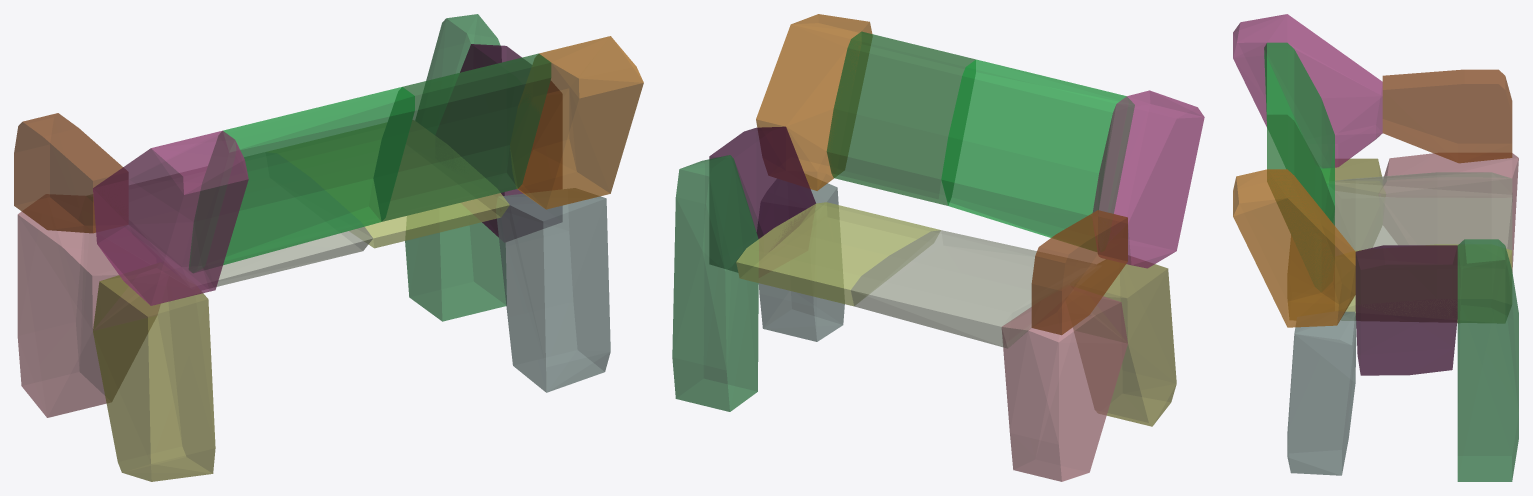
3 views of the same model, side by side, from view 1: azimuth 30°, elevation 25°; view 2: azimuth 150°, elevation 25°; view 3: azimuth 270°, elevation 25° (orthographic). The views are drawn at different scales.
Visible parts, largest first — view 1: Shape_IndexedFaceSet.001, Shape_IndexedFaceSet.004, Shape_IndexedFaceSet.006, Shape_IndexedFaceSet.003, Shape_IndexedFaceSet.010, Shape_IndexedFaceSet.007, Shape_IndexedFaceSet, Shape_IndexedFaceSet.011, Shape_IndexedFaceSet.002, Shape_IndexedFaceSet.008, Shape_IndexedFaceSet.009, Shape_IndexedFaceSet.005; view 2: Shape_IndexedFaceSet.001, Shape_IndexedFaceSet.008, Shape_IndexedFaceSet.003, Shape_IndexedFaceSet.004, Shape_IndexedFaceSet, Shape_IndexedFaceSet.011, Shape_IndexedFaceSet.007, Shape_IndexedFaceSet.006, Shape_IndexedFaceSet.002, Shape_IndexedFaceSet.009, Shape_IndexedFaceSet.010, Shape_IndexedFaceSet.005; view 3: Shape_IndexedFaceSet.008, Shape_IndexedFaceSet.007, Shape_IndexedFaceSet.011, Shape_IndexedFaceSet.002, Shape_IndexedFaceSet, Shape_IndexedFaceSet.009, Shape_IndexedFaceSet.004, Shape_IndexedFaceSet.005, Shape_IndexedFaceSet.010, Shape_IndexedFaceSet.001, Shape_IndexedFaceSet.003, Shape_IndexedFaceSet.006.
Part boxes in pixels (bbox=[...]): Shape_IndexedFaceSet.001: bbox=[189, 87, 414, 272]; Shape_IndexedFaceSet.004: bbox=[17, 194, 160, 417]; Shape_IndexedFaceSet.006: bbox=[93, 263, 215, 481]; Shape_IndexedFaceSet.003: bbox=[374, 53, 551, 221]; Shape_IndexedFaceSet.010: bbox=[496, 188, 610, 392]; Shape_IndexedFaceSet.007: bbox=[93, 130, 248, 305]; Shape_IndexedFaceSet: bbox=[87, 152, 372, 289]; Shape_IndexedFaceSet.011: bbox=[510, 36, 643, 209]; Shape_IndexedFaceSet.002: bbox=[269, 120, 509, 248]; Shape_IndexedFaceSet.008: bbox=[405, 14, 506, 321]; Shape_IndexedFaceSet.009: bbox=[436, 44, 561, 241]; Shape_IndexedFaceSet.005: bbox=[14, 113, 128, 233]; Shape_IndexedFaceSet.001: bbox=[941, 59, 1134, 251]; Shape_IndexedFaceSet.008: bbox=[672, 155, 758, 411]; Shape_IndexedFaceSet.003: bbox=[826, 31, 975, 205]; Shape_IndexedFaceSet.004: bbox=[1001, 286, 1127, 481]; Shape_IndexedFaceSet: bbox=[851, 230, 1095, 348]; Shape_IndexedFaceSet.011: bbox=[756, 14, 872, 190]; Shape_IndexedFaceSet.007: bbox=[1092, 90, 1204, 268]; Shape_IndexedFaceSet.006: bbox=[1073, 256, 1176, 426]; Shape_IndexedFaceSet.002: bbox=[736, 202, 940, 306]; Shape_IndexedFaceSet.009: bbox=[709, 126, 815, 277]; Shape_IndexedFaceSet.010: bbox=[757, 174, 844, 341]; Shape_IndexedFaceSet.005: bbox=[1031, 210, 1127, 335]; Shape_IndexedFaceSet.008: bbox=[1457, 239, 1518, 481]; Shape_IndexedFaceSet.007: bbox=[1233, 14, 1382, 168]; Shape_IndexedFaceSet.011: bbox=[1233, 169, 1355, 327]; Shape_IndexedFaceSet.002: bbox=[1335, 244, 1512, 322]; Shape_IndexedFaceSet: bbox=[1328, 172, 1512, 256]; Shape_IndexedFaceSet.009: bbox=[1355, 245, 1457, 375]; Shape_IndexedFaceSet.004: bbox=[1379, 153, 1518, 323]; Shape_IndexedFaceSet.005: bbox=[1382, 69, 1512, 163]; Shape_IndexedFaceSet.010: bbox=[1287, 311, 1356, 475]; Shape_IndexedFaceSet.001: bbox=[1264, 42, 1334, 222]; Shape_IndexedFaceSet.003: bbox=[1267, 114, 1334, 291]; Shape_IndexedFaceSet.006: bbox=[1288, 158, 1385, 319].
Size of the model in its own units: 0.729 by 0.524 by 0.4784.
